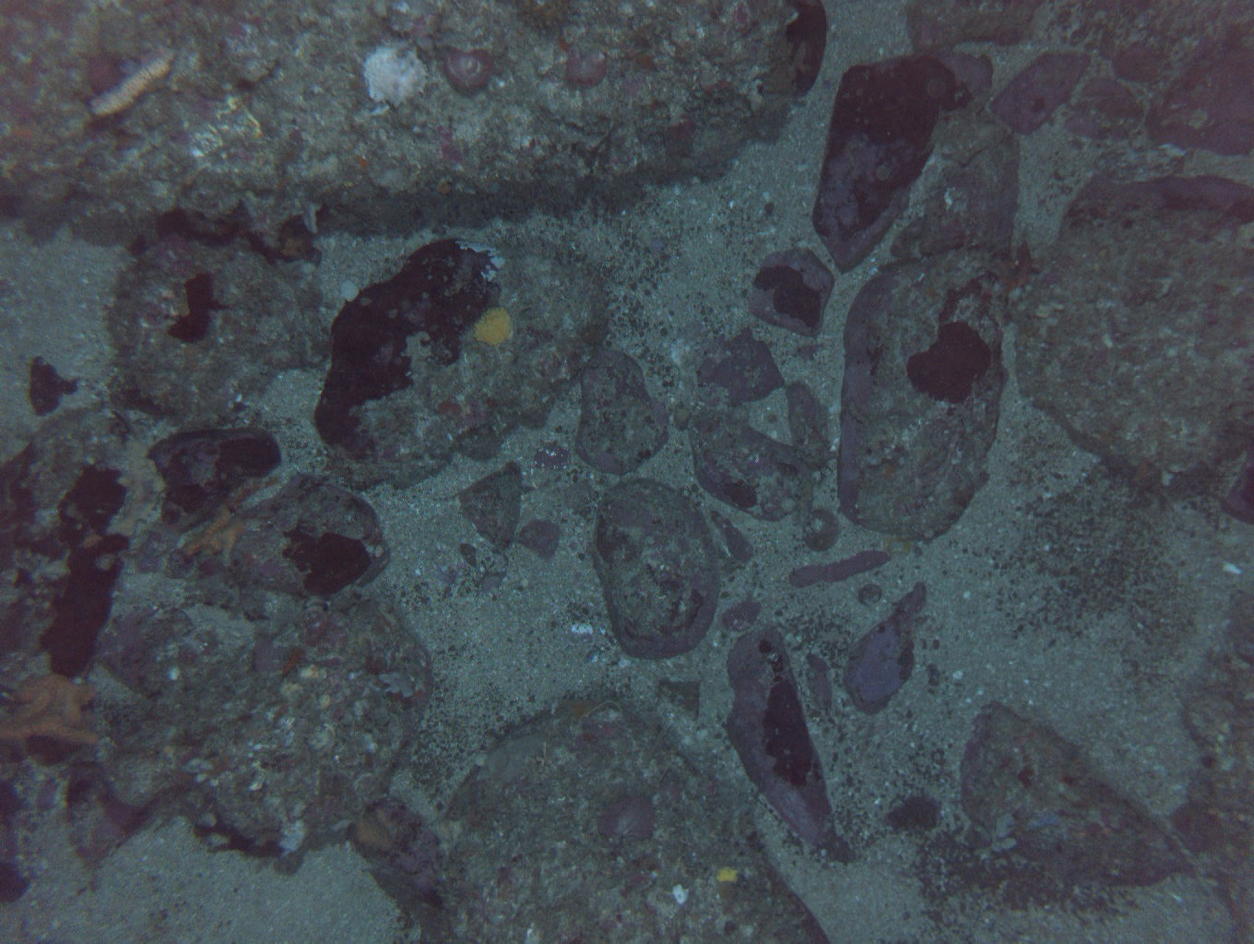Brachionichthyidae: (999, 240, 1045, 298)
